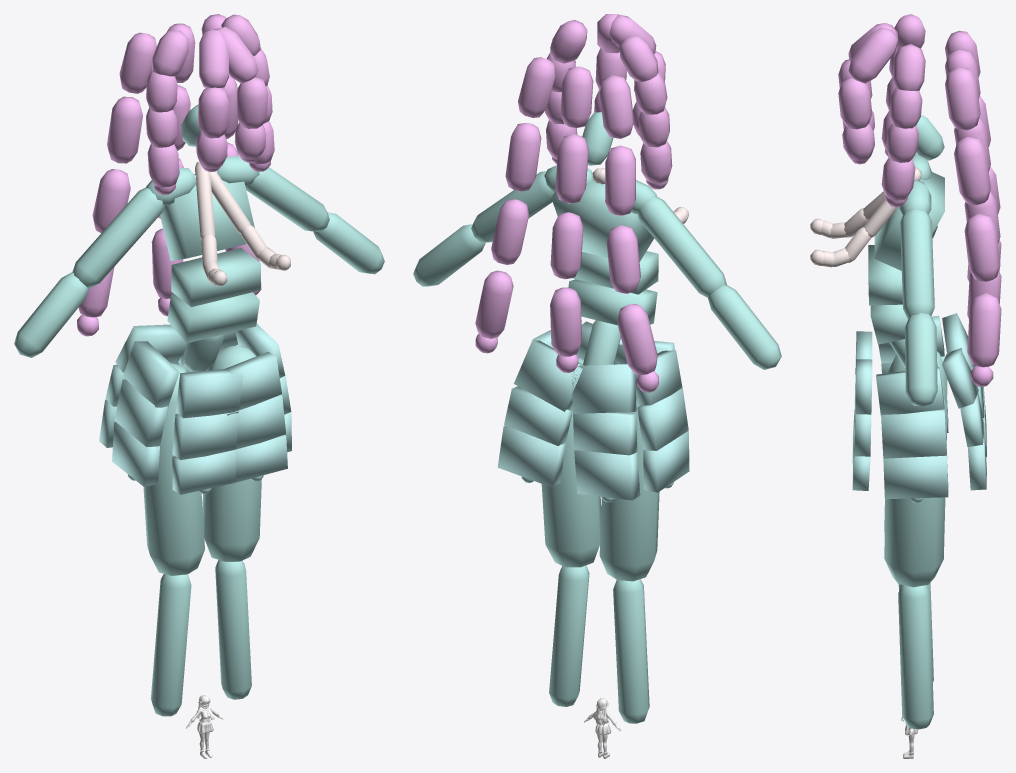
The model's file is intro.fbx.
3 views of the same model, side by side, from view 1: azimuth 30°, elevation 25°; view 2: azimuth 150°, elevation 25°; view 3: azimuth 270°, elevation 25° (orthographic).
Parts seen in each view (by area): view 1: 00D_右足, 00B_左足, 00E_右ひざ, 00C_左ひざ, 003_上半身３, 009_右腕, 002_上半身２, 001_上半身, 00A_右ひじ, 020_右ス前１, 006_左腕, 021_右ス前２ (+34 smaller); view 2: 00D_右足, 00B_左足, 00E_右ひざ, 00C_左ひざ, 009_右腕, 003_上半身３, 01S_右ス後１, 00A_右ひじ, 01U_右ス後３, 01Q_左ス後３, 01O_左ス後１, 01T_右ス後２ (+31 smaller); view 3: 00B_左足, 00C_左ひざ, 006_左腕, 029_左ス横２, 007_左ひじ, 02A_左ス横３, 00X_左髪後４, 003_上半身３, 00V_左髪後２, 00W_左髪後３, 00U_左髪後１, 028_左ス横１ (+32 smaller).
Part boxes in pixels (x1,y1,x2,y2): 00D_右足: (143,362,204,575); 00B_左足: (202,346,261,561); 00E_右ひざ: (151,574,191,716); 00C_左ひざ: (215,560,251,699); 003_上半身３: (160,171,254,260); 009_右腕: (72,187,164,288); 002_上半身２: (171,248,260,306); 001_上半身: (167,292,259,343); 00A_右ひじ: (14,272,88,357); 020_右ス前１: (175,369,242,418); 006_左腕: (245,167,329,232); 021_右ス前２: (172,412,238,459); 00D_右足: (599,400,659,581); 00B_左足: (541,358,601,567); 00E_右ひざ: (613,579,649,723); 00C_左ひざ: (549,565,589,706); 009_右腕: (637,197,726,297); 003_上半身３: (551,174,654,261); 01S_右ス後１: (571,364,636,413); 00A_右ひじ: (708,285,781,369); 01U_右ス後３: (574,450,640,500); 01Q_左ス後３: (497,425,565,487); 01O_左ス後１: (514,340,584,411); 01T_右ス後２: (573,412,637,455); 00B_左足: (884,398,947,587); 00C_左ひざ: (898,585,933,729); 006_左腕: (900,209,934,319); 029_左ス横２: (881,408,946,458); 007_左ひじ: (904,313,937,406); 02A_左ス横３: (883,455,948,499); 00X_左髪後４: (967,293,1001,367); 003_上半身３: (874,171,944,270); 00V_左髪後２: (954,137,990,205); 00W_左髪後３: (964,213,1000,282); 00U_左髪後１: (945,67,980,130); 028_左ス横１: (876,367,944,415).
Size of the model in its own units: 1056 by 2026 by 481.
